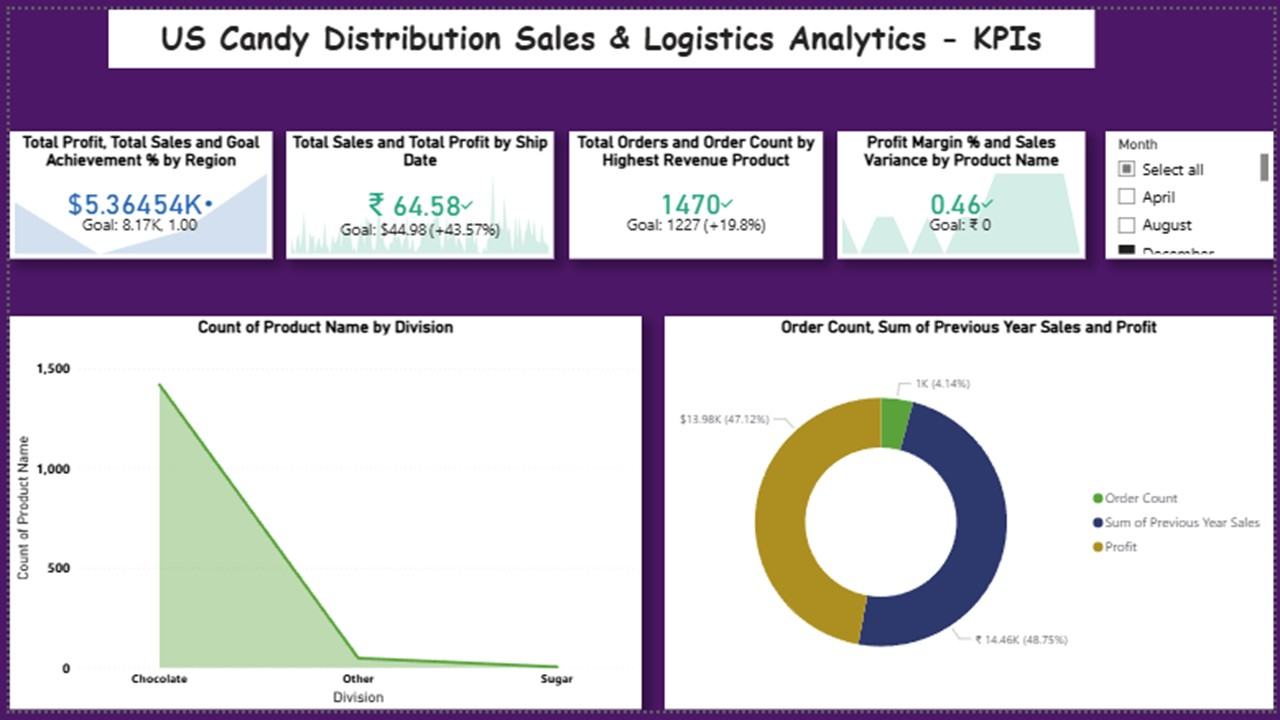

The page's visual inventory and layout, read from the dashboard file:
{"tool":"powerbi","page":{"name":"KPI","canvas":[1280,720],"ordinal":3},"visuals":[{"type":"slicer","fields":{"Values":["Date Table.Month"]},"box":[1110,125.7,170,131.4],"z":0},{"type":"kpi","fields":{"Indicator":["Candy Sales.Total Profit"],"Goal":["Candy Sales.Total Sales","Candy Sales.Goal Achievement %"],"TrendLine":["Candy Sales.Region"]},"box":[0,125.7,265.7,131.4],"z":1000},{"type":"kpi","fields":{"Goal":["Candy Sales.Total Profit"],"TrendLine":["Candy Sales.Ship Date"],"Indicator":["Candy Sales.Total Sales"]},"box":[280,125.7,271.4,131.4],"z":2000},{"type":"kpi","fields":{"Indicator":["Candy Sales.Total Orders"],"Goal":["Candy Sales.Order Count"],"TrendLine":["Candy Sales.Highest Revenue Product"]},"box":[567.1,125.7,257.1,131.4],"z":3000},{"type":"kpi","fields":{"Indicator":["Candy Factories.Profit Margin %"],"TrendLine":["Candy Product.Product Name"],"Goal":["Candy Sales.Sales Variance"]},"box":[838.6,125.7,251.4,131.4],"z":4000},{"type":"stackedAreaChart","fields":{"Category":["Candy Targets.Division"],"Y":["CountNonNull(Candy Sales.Product Name)"]},"box":[0,315.7,640,404.3],"z":5000},{"type":"donutChart","fields":{"Y":["Candy Sales.Order Count","Sum(Date Table.Previous Year Sales)","Candy Sales.Profit"]},"box":[662.9,315.7,617.1,404.3],"z":6000},{"type":"textbox","box":[100,0,998.6,60],"z":7000}]}

Visuals, with their boxes in screenshot pixels (x1, y1, x2, y2), scaled from the page's 1280x720 canvas onto the 1280x720 screenshot:
slicer - Date Table.Month: select_region(1110, 126, 1279, 257)
kpi - Candy Sales.Total Profit x Candy Sales.Total Sales: select_region(0, 126, 266, 257)
kpi - Candy Sales.Total Profit x Candy Sales.Ship Date: select_region(280, 126, 551, 257)
kpi - Candy Sales.Total Orders x Candy Sales.Order Count: select_region(567, 126, 824, 257)
kpi - Candy Factories.Profit Margin % x Candy Product.Product Name: select_region(839, 126, 1090, 257)
stackedAreaChart - Candy Targets.Division x CountNonNull(Candy Sales.Product Name): select_region(0, 316, 640, 719)
donutChart - Candy Sales.Order Count x Sum(Date Table.Previous Year Sales): select_region(663, 316, 1279, 719)
textbox: select_region(100, 0, 1099, 60)
